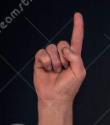up: (32, 9, 87, 99)
